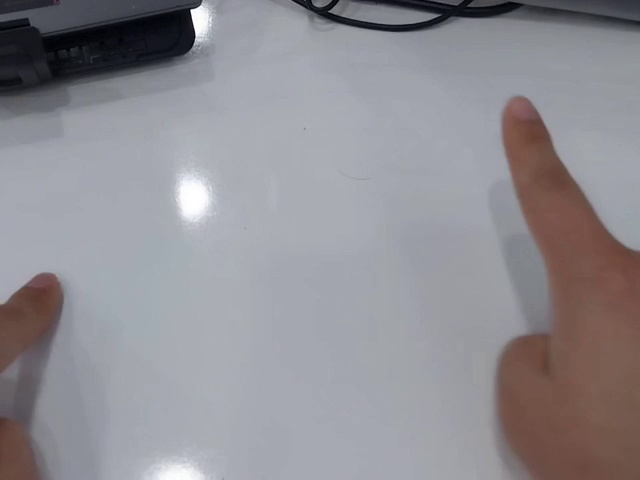fingers: (5, 271, 63, 341), (501, 94, 554, 150)
